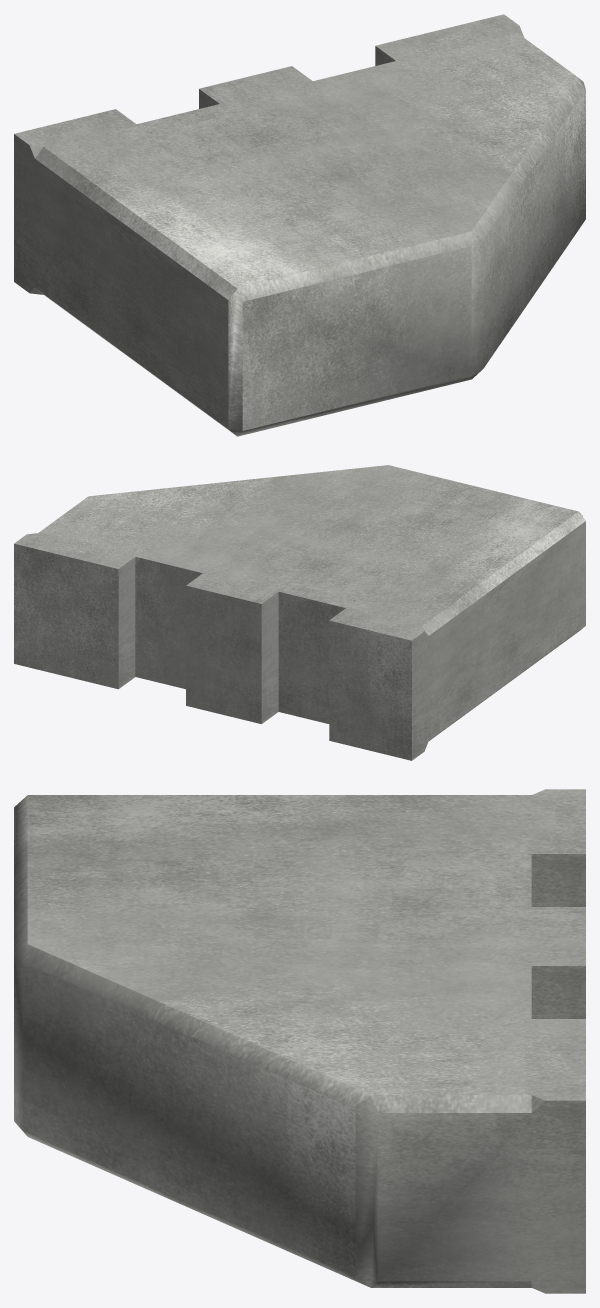
The model's file is angled_barrier.obj.
The picture shows the model from 3 angles, top to bottom: view 1: azimuth 30°, elevation 25°; view 2: azimuth 150°, elevation 25°; view 3: azimuth 270°, elevation 25°; orthographic projection. The views are drawn at different scales.
Visible parts, largest first — view 1: Box001; view 2: Box001; view 3: Box001.
Boxes of the visible parts, box(x1,y1,x2,y2) form: Box001: box(14, 14, 585, 436); Box001: box(14, 465, 585, 760); Box001: box(14, 789, 585, 1293).
Size of the model in its own units: 27.17 by 7.84 by 21.09.
